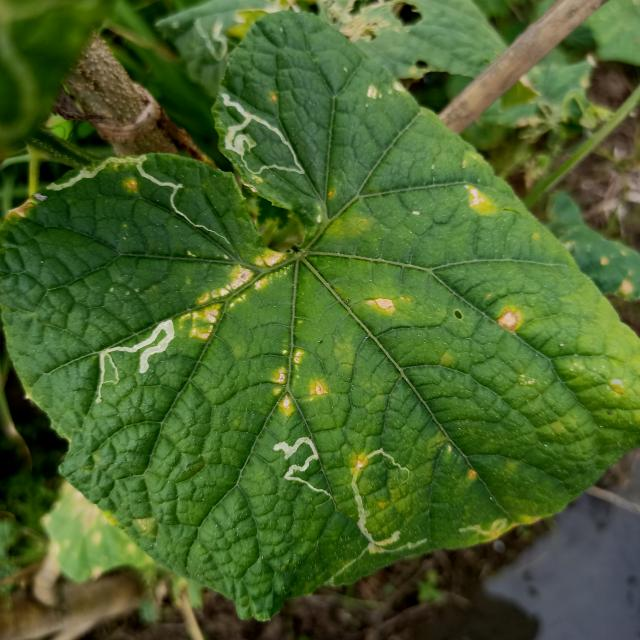disease_cucumber: (180, 246, 293, 342), (274, 346, 326, 416), (460, 175, 496, 217), (364, 78, 404, 103), (494, 307, 522, 331), (363, 296, 394, 316), (122, 178, 141, 196)
